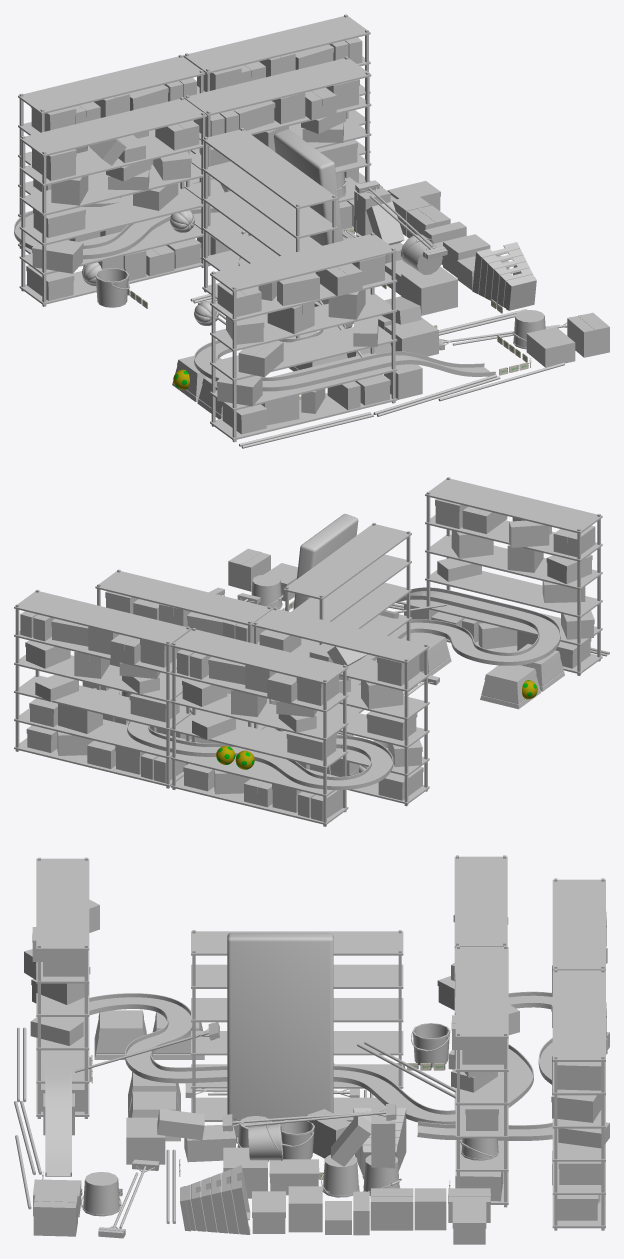
The model's file is track4.fbx.
The picture shows the model from 3 angles, top to bottom: view 1: azimuth 30°, elevation 25°; view 2: azimuth 150°, elevation 25°; view 3: azimuth 270°, elevation 25°; orthographic projection. The views are drawn at different scales.
Visible parts, largest first — view 1: rak.004, rak.003, rak.005, rak.006, naik_path, rak.001, rak.007, Cube.004, matras.001, Cube.034, Cube.033, box 5.012 (+50 smaller); view 2: rak.001, rak.003, rak.007, naik_path, rak.004, rak.005, rak.006, matras.001, Cube.008, box 5.012, Cube.014, box 3.019 (+54 smaller); view 3: matras.001, naik_path, rak.005, rak.006, rak.007, rak.003, rak.004, rak.001, Cube.004, Cube.007, box 5.012, box 5.005 (+42 smaller).
Boxes of the visible parts, <box> form: rak.004: <box>19,97,206,306</box>; rak.003: <box>210,232,397,442</box>; rak.005: <box>202,128,337,338</box>; rak.006: <box>184,56,371,266</box>; naik_path: <box>14,176,495,391</box>; rak.001: <box>18,54,205,253</box>; rak.007: <box>183,14,370,183</box>; Cube.004: <box>472,242,536,310</box>; matras.001: <box>273,129,352,328</box>; Cube.034: <box>401,266,457,315</box>; Cube.033: <box>526,327,575,367</box>; box 5.012: <box>567,312,609,357</box>; rak.001: <box>170,628,348,826</box>; rak.003: <box>425,477,602,675</box>; rak.007: <box>14,589,191,788</box>; naik_path: <box>127,587,560,790</box>; rak.004: <box>252,607,429,806</box>; rak.005: <box>283,522,411,713</box>; rak.006: <box>95,569,272,740</box>; matras.001: <box>293,514,358,609</box>; Cube.008: <box>480,665,540,709</box>; box 5.012: <box>228,548,270,591</box>; Cube.014: <box>402,632,451,675</box>; box 3.019: <box>366,711,417,740</box>; matras.001: <box>227,932,333,1137</box>; naik_path: <box>45,991,552,1176</box>; rak.005: <box>191,930,403,1121</box>; rak.006: <box>455,945,508,1207</box>; rak.007: <box>552,969,605,1230</box>; rak.003: <box>36,857,89,1118</box>; rak.004: <box>454,855,507,1109</box>; rak.001: <box>552,878,605,970</box>; Cube.004: <box>180,1165,250,1234</box>; Cube.007: <box>94,1010,146,1059</box>; box 5.012: <box>33,1193,77,1236</box>; box 5.005: <box>370,1188,413,1230</box>.
Size of the model in its own units: 487 by 203 by 561.
